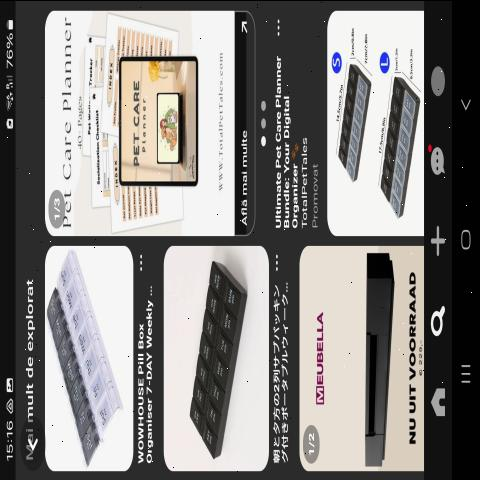PillBox: (47, 246, 123, 466), (184, 257, 250, 460), (371, 52, 419, 220), (333, 51, 371, 180)
